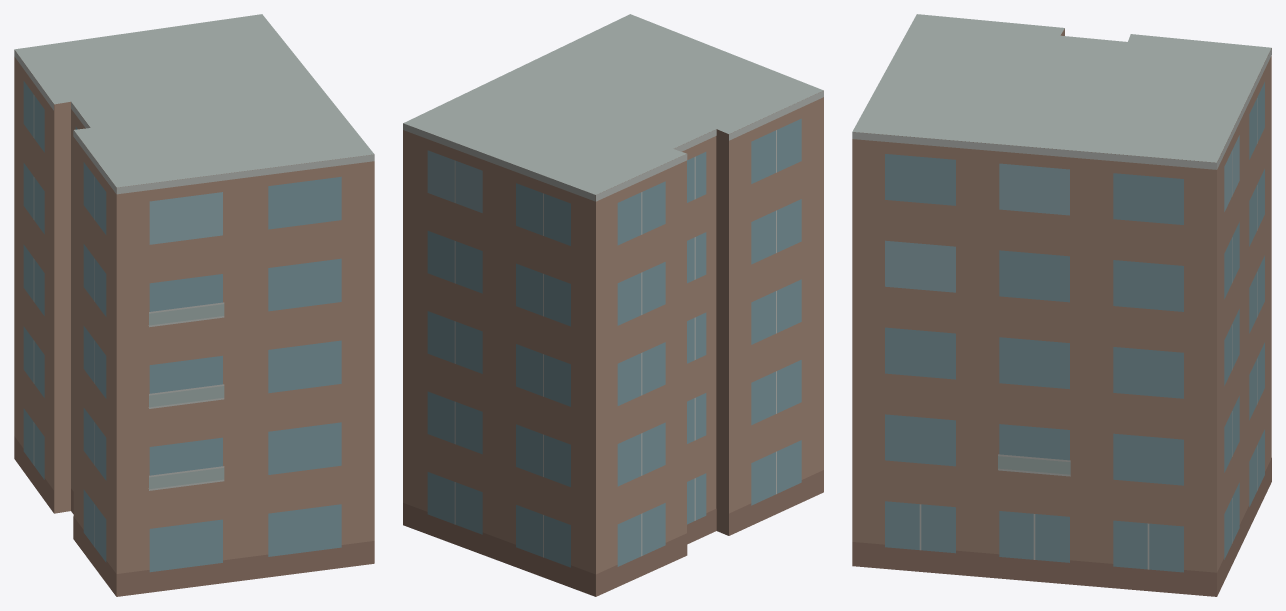
Rendered from survey-upis-32704109.glb.
The picture shows the model from 3 angles, left to right: view 1: azimuth 30°, elevation 25°; view 2: azimuth 150°, elevation 25°; view 3: azimuth 270°, elevation 25°; orthographic projection. The views are drawn at different scales.
Parts seen in each view (by area): view 1: survey-upis-32704109.tmp; view 2: survey-upis-32704109.tmp; view 3: survey-upis-32704109.tmp.
Boxes of the visible parts, x1,y1,x2,y2 form: survey-upis-32704109.tmp: (14, 14, 374, 596); survey-upis-32704109.tmp: (403, 14, 823, 596); survey-upis-32704109.tmp: (852, 14, 1271, 596).
Size of the model in its own units: 10.76 by 14.65 by 12.84.
